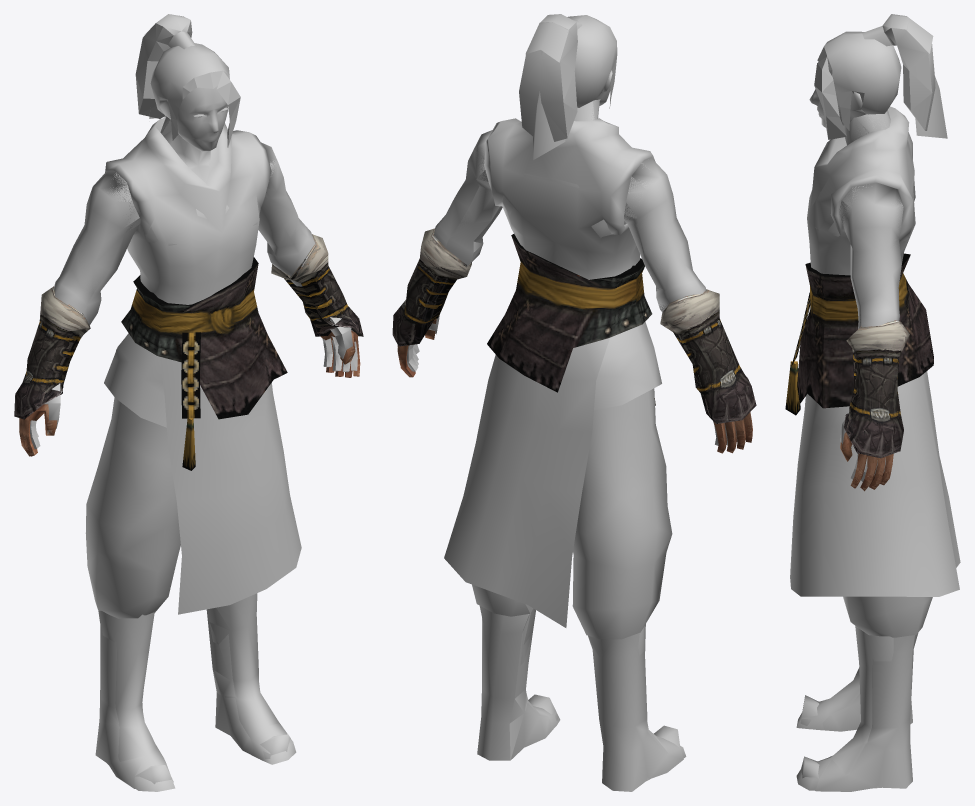
The model's file is OrientalMaleCad.FBX.
The picture shows the model from 3 angles, left to right: view 1: azimuth 30°, elevation 25°; view 2: azimuth 150°, elevation 25°; view 3: azimuth 270°, elevation 25°; orthographic projection. The views are drawn at different scales.
Parts seen in each view (by area): view 1: cadnav.com, Object02; view 2: cadnav.com, Object02; view 3: cadnav.com, Object02.
Part boxes in pixels (x1,y1,x2,y2): cadnav.com: (14, 14, 363, 788); Object02: (30, 116, 357, 791); cadnav.com: (392, 14, 756, 791); Object02: (406, 99, 737, 780); cadnav.com: (785, 14, 960, 791); Object02: (796, 110, 914, 790).
Size of the model in its own units: 36.45 by 74.32 by 16.03.
